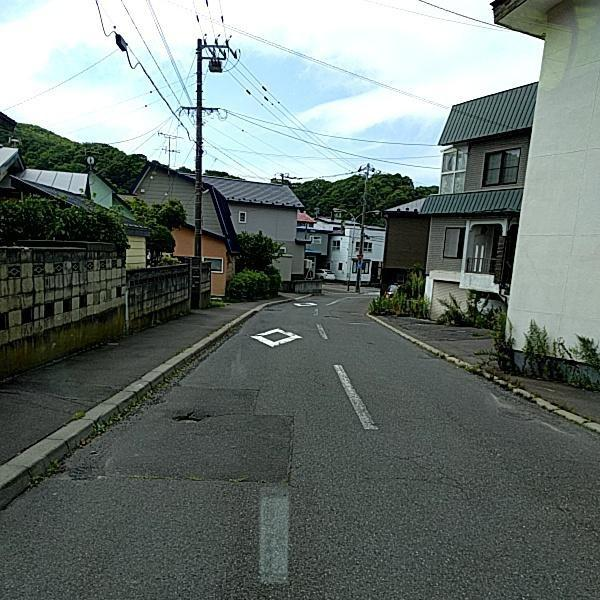pothole: (171, 411, 201, 423)
